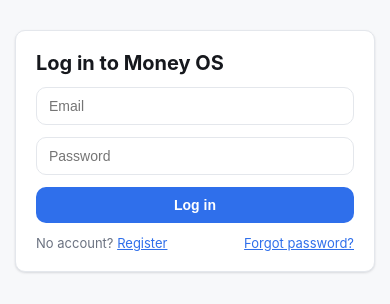
LoginPage › shows the server's error message when login fails, and does not navigate away
Type "wrong@example.com" into the field with placeholder "Email".
click(195, 106); type("wrong@example.com")  # box [36,87,354,125]
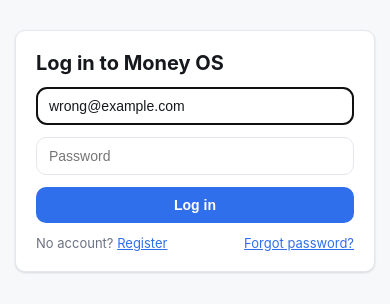
Type "wrongpassword" into the password field with placeholder "Password".
click(195, 156); type("wrongpassword")  # box [36,137,354,175]
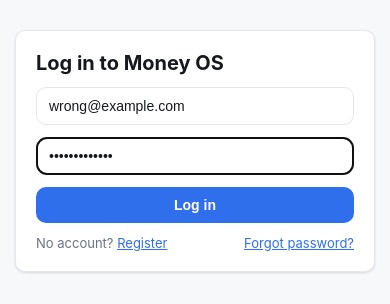
Click the button "Log in".
click(195, 205)  # box [36,187,354,223]
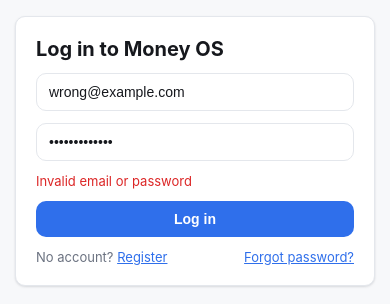
expect the text "Invalid email or password" is shown: met, box [36,173,192,189]
